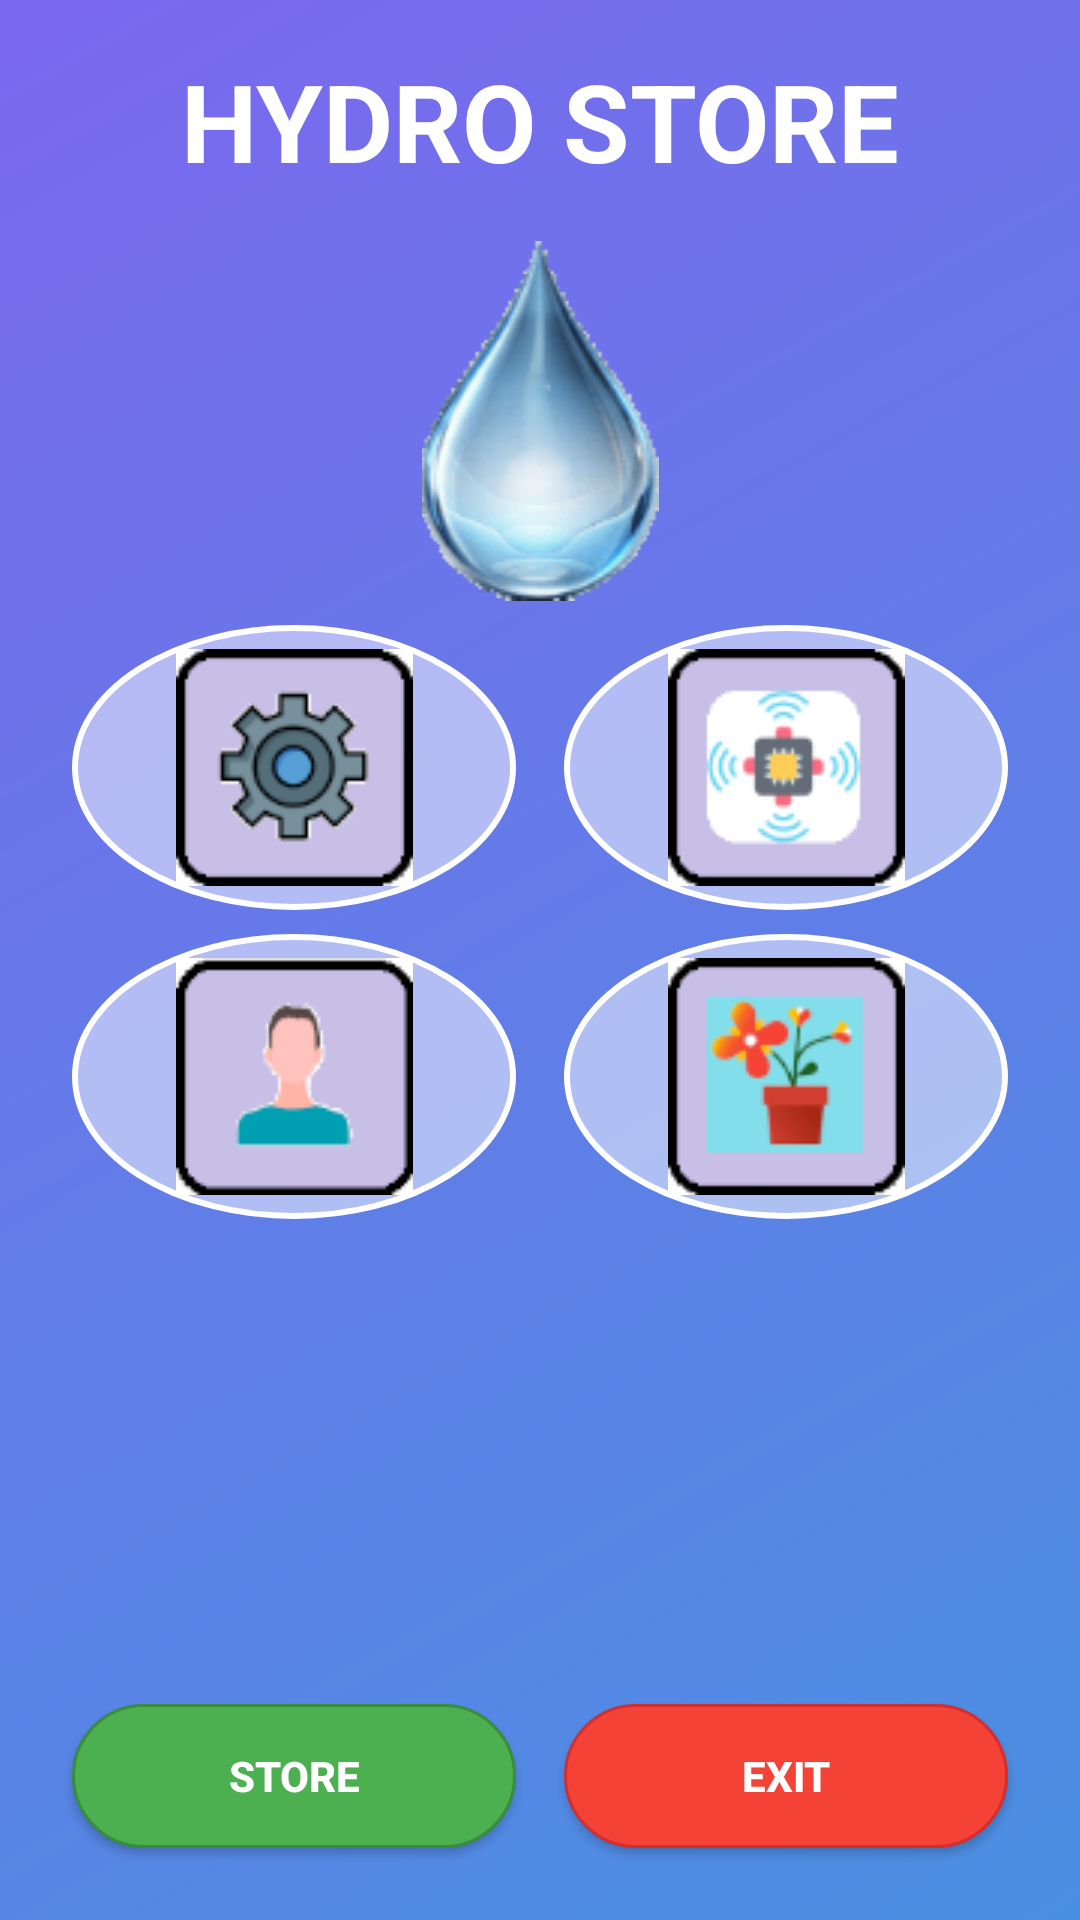

Where icons sit on this 1080px x 1920px app screen, as (x1, y1, x2, y2):
water drop: (422, 241, 659, 601)
